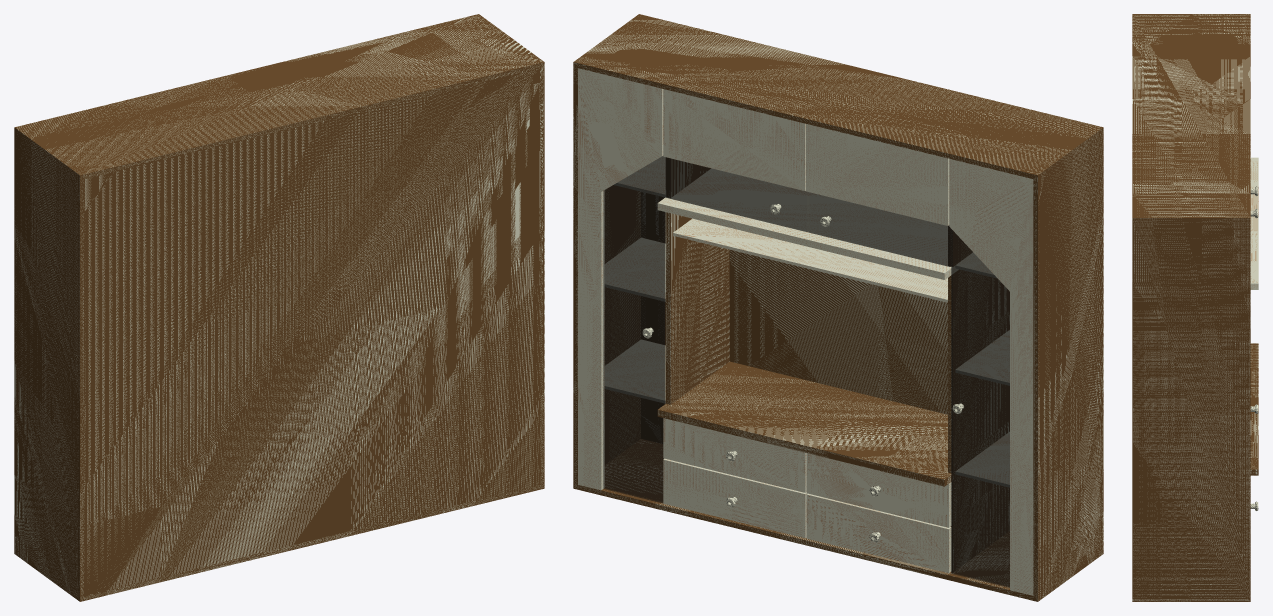
The picture shows the model from 3 angles, left to right: view 1: azimuth 30°, elevation 25°; view 2: azimuth 150°, elevation 25°; view 3: azimuth 270°, elevation 25°; orthographic projection. The views are drawn at different scales.
Parts seen in each view (by area): view 1: mesh1_mesh1-geometry; view 2: mesh1_mesh1-geometry, mesh19_mesh19-geometry, mesh18_mesh18-geometry, mesh15_mesh15-geometry, mesh14_mesh14-geometry, mesh12_mesh12-geometry, mesh11_mesh11-geometry, mesh20_mesh20-geometry, mesh17_mesh17-geometry, mesh16_mesh16-geometry, mesh22_mesh22-geometry, mesh10_mesh10-geometry (+7 smaller); view 3: mesh1_mesh1-geometry, mesh19_mesh19-geometry, mesh18_mesh18-geometry.
Boxes of the visible parts, <box> form: mesh1_mesh1-geometry: <box>14,14,544,601</box>; mesh1_mesh1-geometry: <box>573,14,1103,601</box>; mesh19_mesh19-geometry: <box>657,361,958,486</box>; mesh18_mesh18-geometry: <box>657,168,958,279</box>; mesh15_mesh15-geometry: <box>948,226,1009,572</box>; mesh14_mesh14-geometry: <box>665,157,729,404</box>; mesh12_mesh12-geometry: <box>806,124,949,225</box>; mesh11_mesh11-geometry: <box>663,89,805,190</box>; mesh20_mesh20-geometry: <box>806,493,951,573</box>; mesh17_mesh17-geometry: <box>663,458,807,538</box>; mesh16_mesh16-geometry: <box>673,218,947,302</box>; mesh22_mesh22-geometry: <box>806,453,951,527</box>; mesh10_mesh10-geometry: <box>665,157,808,231</box>; mesh1_mesh1-geometry: <box>1132,14,1250,601</box>; mesh19_mesh19-geometry: <box>1250,343,1258,475</box>; mesh18_mesh18-geometry: <box>1250,157,1258,289</box>.
Size of the model in its own units: 0.7375 by 0.6472 by 0.1929.
